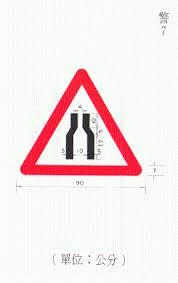narrow_road: (17, 69, 145, 179)
